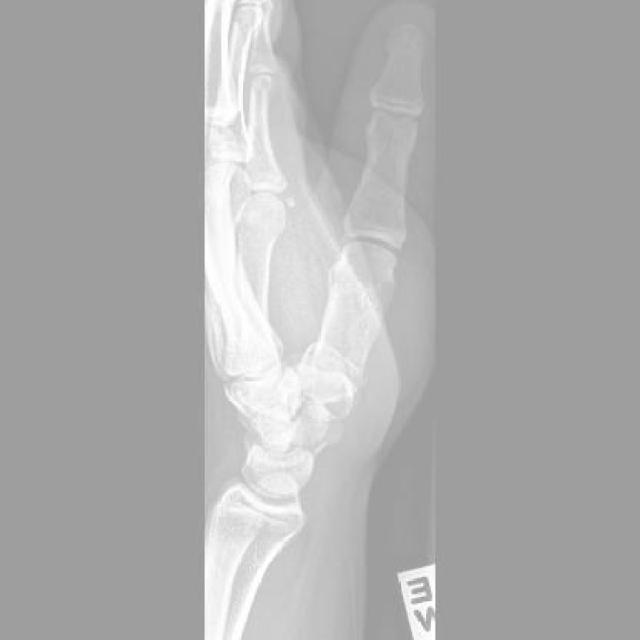Fracture: (300, 337, 374, 403)
